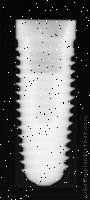Blue Sky Bio: (12, 19, 77, 188)
